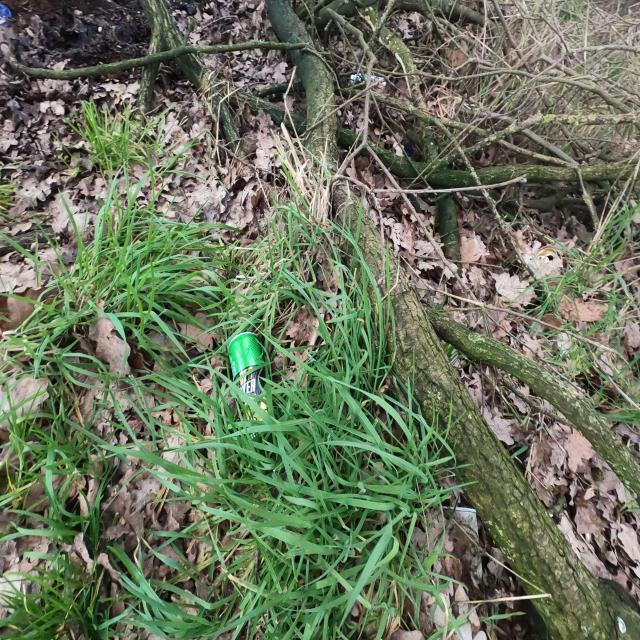Can-Metal: (227, 331, 270, 442)
